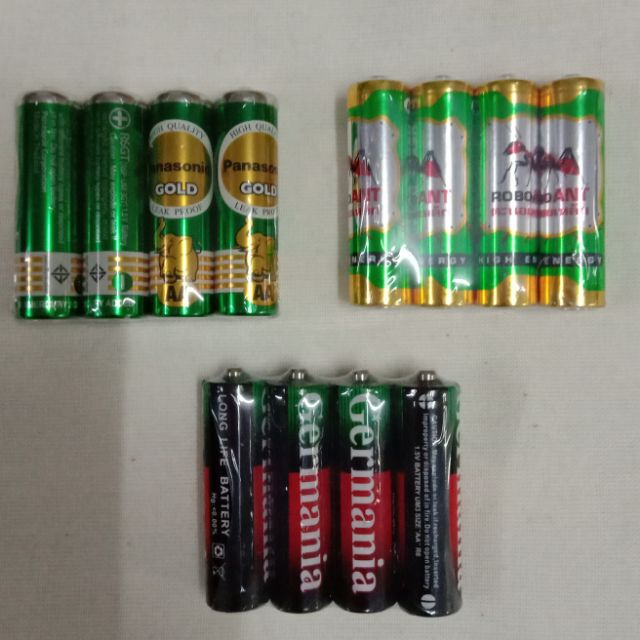Battery: (199, 369, 268, 615), (344, 73, 415, 310), (335, 370, 400, 616), (150, 86, 217, 318), (542, 73, 607, 310), (478, 73, 542, 308), (15, 90, 80, 321), (400, 371, 461, 617), (268, 368, 329, 614), (412, 75, 476, 309), (218, 88, 280, 319), (82, 88, 144, 319)
